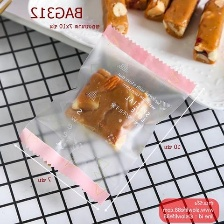snack: (14, 18, 203, 211)
